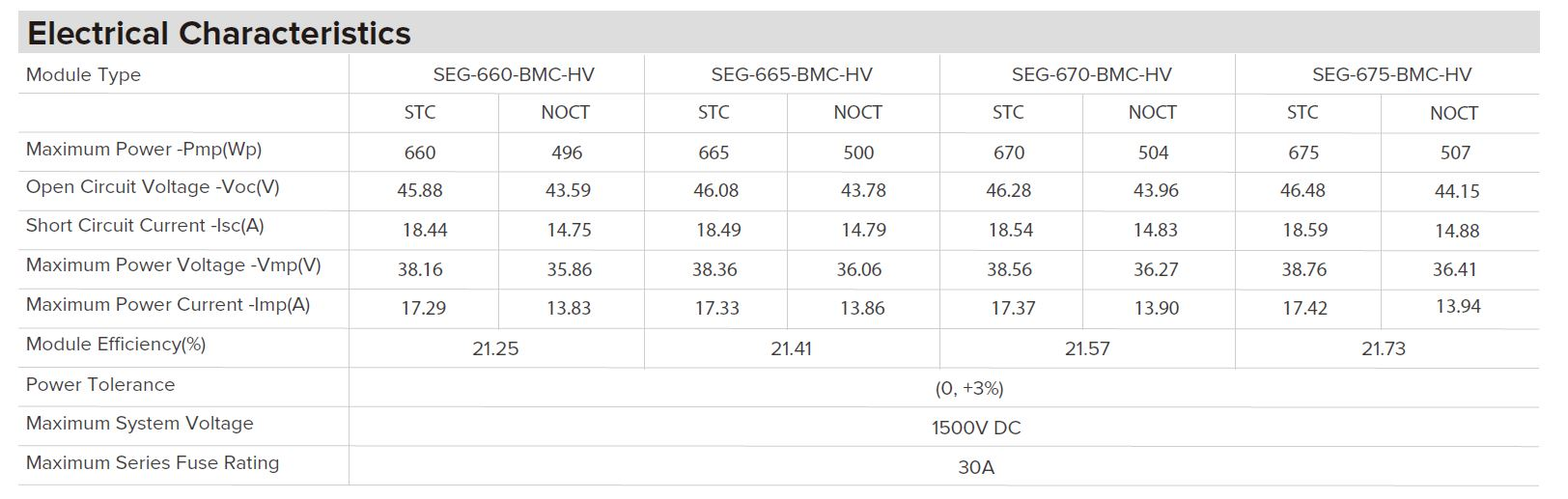table: (10, 1, 1554, 498)
table column: (16, 11, 349, 483), (1382, 6, 1551, 487), (1082, 3, 1233, 485), (789, 6, 938, 485), (348, 10, 497, 485), (1234, 8, 1383, 482), (495, 8, 643, 485), (645, 6, 790, 486), (938, 4, 1082, 485)
table column header: (16, 54, 1551, 97), (15, 95, 1551, 133)
table name: (19, 12, 1544, 51)
table row: (17, 51, 1545, 97), (15, 9, 1542, 52), (3, 326, 1547, 368), (10, 210, 1548, 252), (14, 131, 1548, 172), (10, 172, 1548, 212), (6, 407, 1547, 446), (7, 290, 1544, 329), (7, 370, 1549, 408), (9, 251, 1549, 289), (9, 447, 1548, 485), (18, 96, 1547, 133)
table row header: (17, 9, 347, 483)
table spanning cell: (17, 9, 1545, 53), (348, 368, 1550, 410), (345, 409, 1551, 447), (345, 448, 1552, 485), (937, 323, 1236, 373), (350, 51, 647, 97), (644, 51, 938, 97), (1231, 54, 1548, 96), (347, 324, 646, 368), (642, 324, 940, 368), (1236, 326, 1547, 368), (936, 52, 1234, 94)
